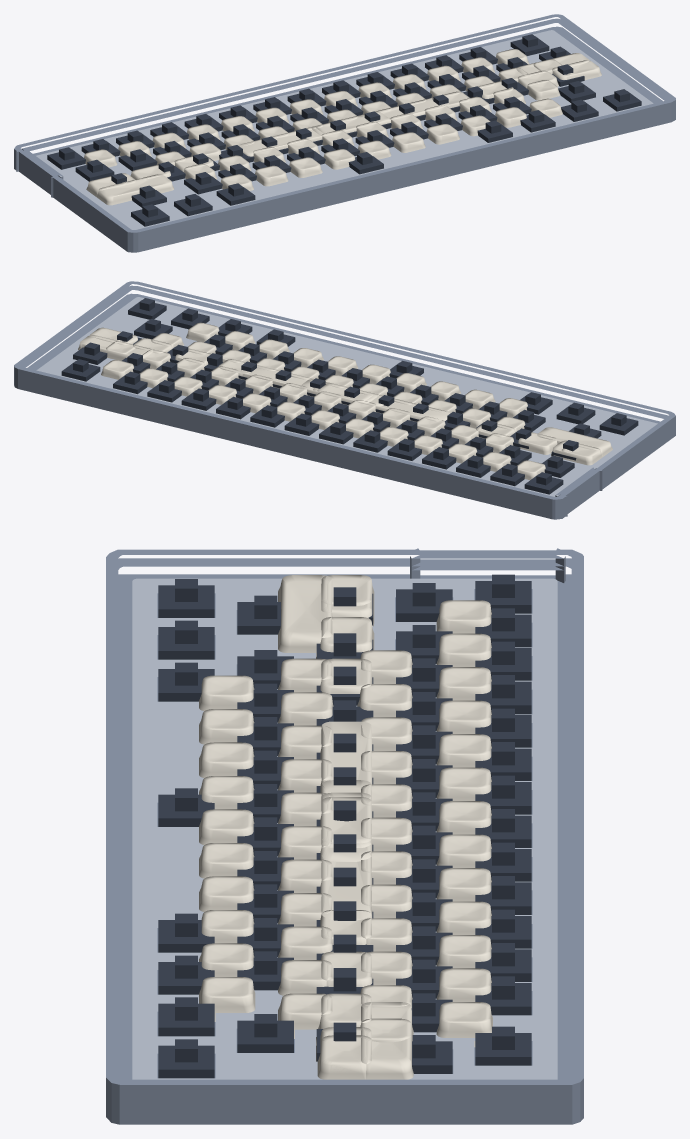
The model's file is wooting-60he-v2.glb.
3 views of the same model, one above another, from view 1: azimuth 30°, elevation 25°; view 2: azimuth 150°, elevation 25°; view 3: azimuth 270°, elevation 25° (orthographic). The views are drawn at different scales.
Visible parts, largest first — view 1: switches/switches, bottomCase/case-bottom, keycaps/keycaps-0, plate/plate-placeholder, topCase/case-top, keycaps/keycaps-6, keycaps/keycaps-4, keycaps/keycaps-7, keycaps/keycaps-2; view 2: switches/switches, bottomCase/case-bottom, keycaps/keycaps-0, plate/plate-placeholder, topCase/case-top, keycaps/keycaps-6, keycaps/keycaps-7, keycaps/keycaps-4, keycaps/keycaps-2; view 3: switches/switches, keycaps/keycaps-0, bottomCase/case-bottom, plate/plate-placeholder, keycaps/keycaps-6, topCase/case-top, keycaps/keycaps-4, keycaps/keycaps-7, keycaps/keycaps-2, keycaps/keycaps-5, keycaps/keycaps-3.
Part boxes in pixels (left/top/right/bottom): switches/switches: left=47, top=34, right=641, bottom=226; bottomCase/case-bottom: left=14, top=14, right=675, bottom=252; keycaps/keycaps-0: left=84, top=49, right=562, bottom=190; plate/plate-placeholder: left=36, top=30, right=653, bottom=229; topCase/case-top: left=15, top=18, right=675, bottom=248; keycaps/keycaps-6: left=89, top=60, right=601, bottom=197; keycaps/keycaps-4: left=97, top=53, right=589, bottom=205; keycaps/keycaps-7: left=239, top=97, right=449, bottom=156; keycaps/keycaps-2: left=86, top=60, right=599, bottom=196; switches/switches: left=61, top=298, right=638, bottom=494; bottomCase/case-bottom: left=14, top=281, right=675, bottom=519; keycaps/keycaps-0: left=101, top=322, right=545, bottom=480; plate/plate-placeholder: left=36, top=297, right=657, bottom=496; topCase/case-top: left=14, top=285, right=675, bottom=515; keycaps/keycaps-6: left=94, top=335, right=602, bottom=457; keycaps/keycaps-7: left=240, top=365, right=450, bottom=421; keycaps/keycaps-4: left=78, top=335, right=612, bottom=456; keycaps/keycaps-2: left=90, top=327, right=602, bottom=465; switches/switches: left=158, top=574, right=531, bottom=1078; keycaps/keycaps-0: left=199, top=600, right=492, bottom=1047; bottomCase/case-bottom: left=106, top=548, right=583, bottom=1124; plate/plate-placeholder: left=132, top=578, right=557, bottom=1079; keycaps/keycaps-6: left=316, top=579, right=374, bottom=1079; topCase/case-top: left=108, top=558, right=583, bottom=1116; keycaps/keycaps-4: left=278, top=575, right=413, bottom=1079; keycaps/keycaps-7: left=320, top=721, right=372, bottom=920; keycaps/keycaps-2: left=316, top=575, right=374, bottom=1079; keycaps/keycaps-5: left=321, top=780, right=371, bottom=861; keycaps/keycaps-3: left=322, top=797, right=371, bottom=843.
Bounding box in the file's own units: 1e+07 × 428836 × 3768077.
